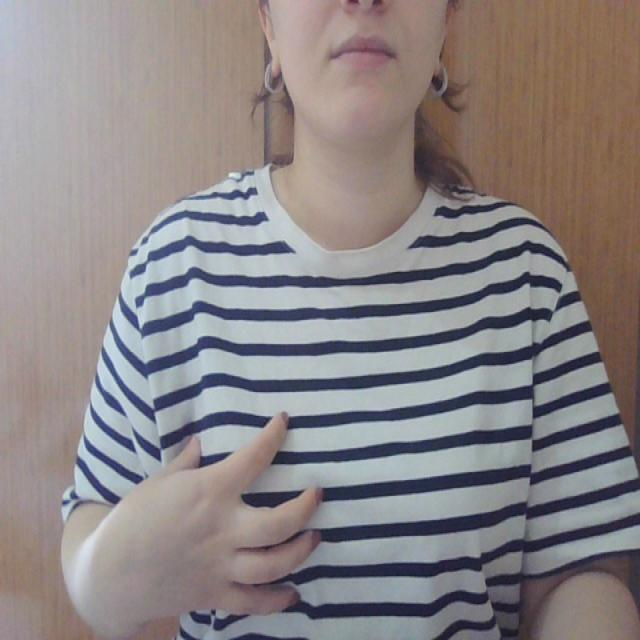Anne: (124, 399, 521, 625)
